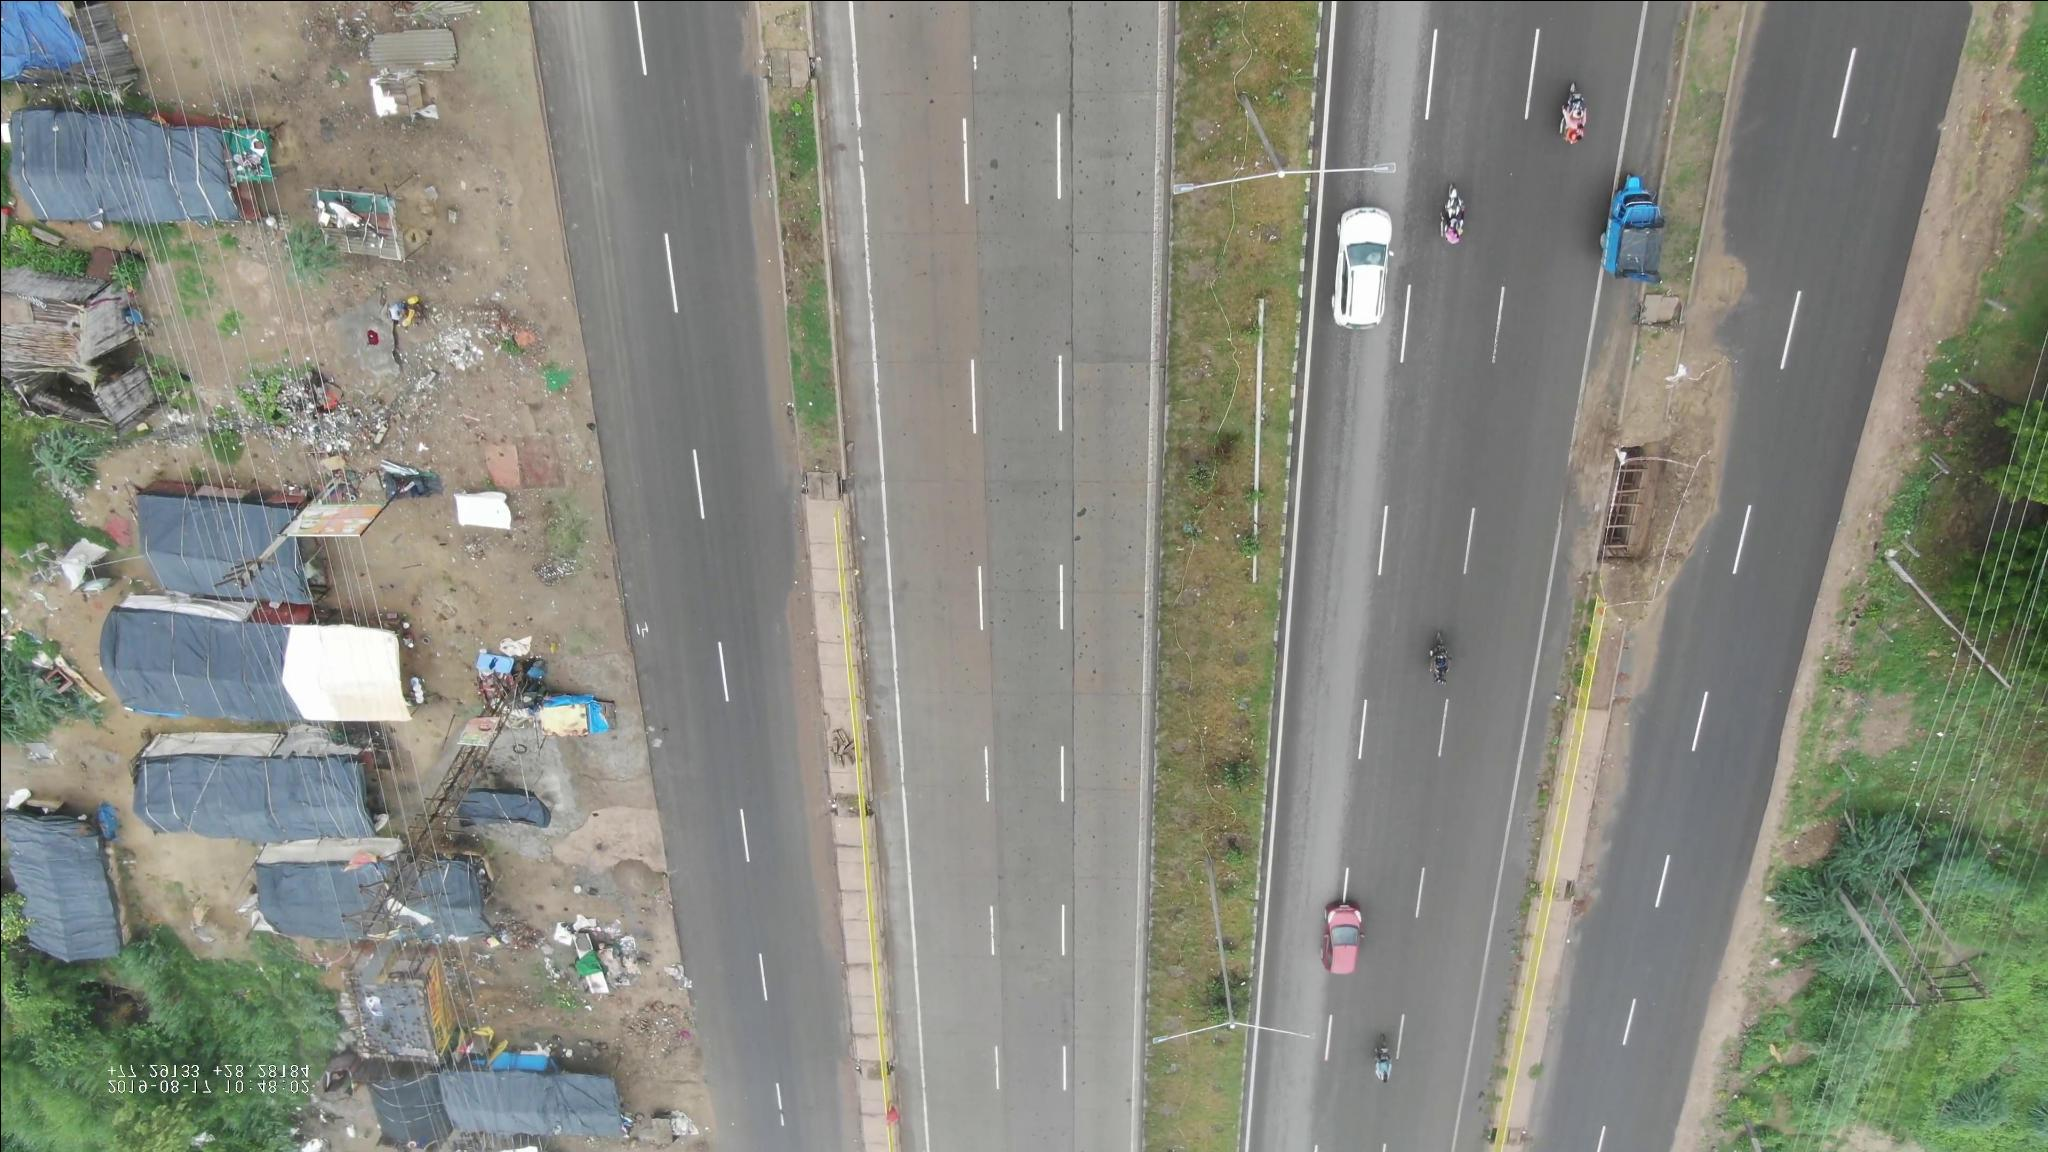Muddy_road: (1654, 432, 1722, 580)
Road_side_garbage: (260, 376, 395, 480)
